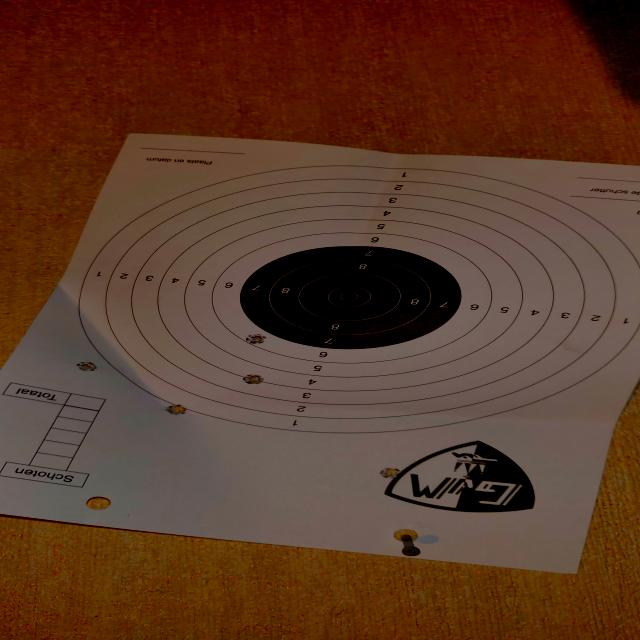0: (379, 467, 403, 479), (76, 362, 98, 371)
1: (162, 404, 188, 416)
4: (241, 374, 264, 385)
6: (244, 334, 268, 344)
Target: (71, 165, 638, 434)
black_contour: (240, 246, 461, 350)
